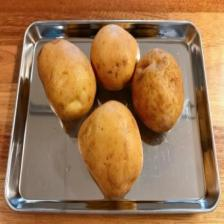Potato: (79, 98, 144, 198), (38, 37, 98, 121), (131, 47, 185, 132), (90, 24, 142, 90)
